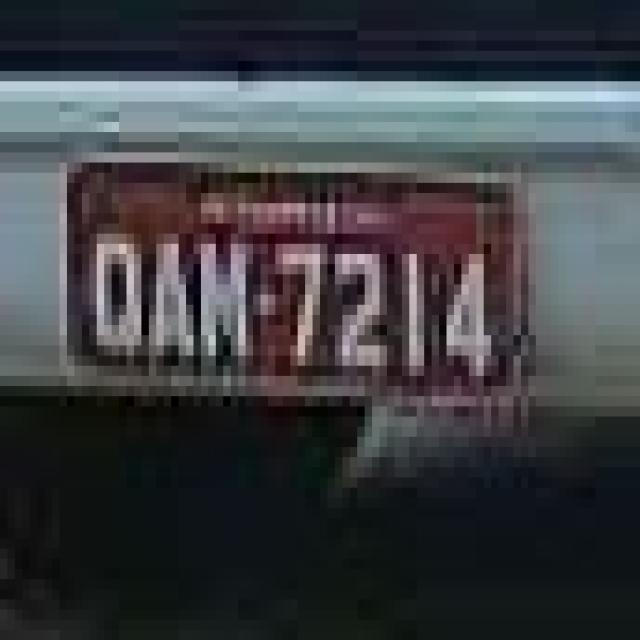1: (398, 246, 439, 392)
4: (446, 246, 486, 393)
7: (280, 233, 327, 377)
A: (148, 214, 192, 376)
M: (202, 226, 255, 368)
Q: (90, 220, 142, 379)
